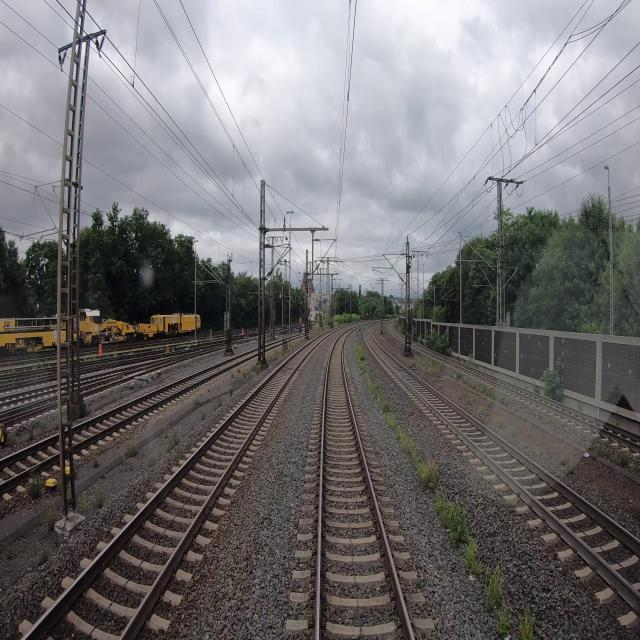Plant: (363, 369, 482, 576), (411, 354, 444, 382), (485, 565, 503, 613), (518, 604, 537, 639), (495, 603, 511, 638), (468, 380, 495, 399), (24, 473, 42, 500), (353, 342, 368, 370), (559, 453, 576, 475), (166, 430, 181, 452), (44, 507, 57, 532), (612, 449, 630, 465), (3, 539, 16, 561), (126, 439, 140, 459), (87, 448, 99, 471), (34, 547, 50, 564), (78, 492, 92, 511), (494, 416, 508, 431), (96, 489, 106, 509), (466, 392, 479, 407), (628, 460, 639, 476), (632, 499, 639, 522), (595, 444, 606, 457), (456, 386, 465, 399), (214, 396, 223, 408), (161, 423, 168, 437), (510, 425, 518, 437), (119, 452, 127, 464), (454, 373, 462, 384), (476, 404, 484, 415), (192, 397, 203, 404), (200, 409, 206, 421), (486, 399, 492, 407), (231, 372, 235, 378)
